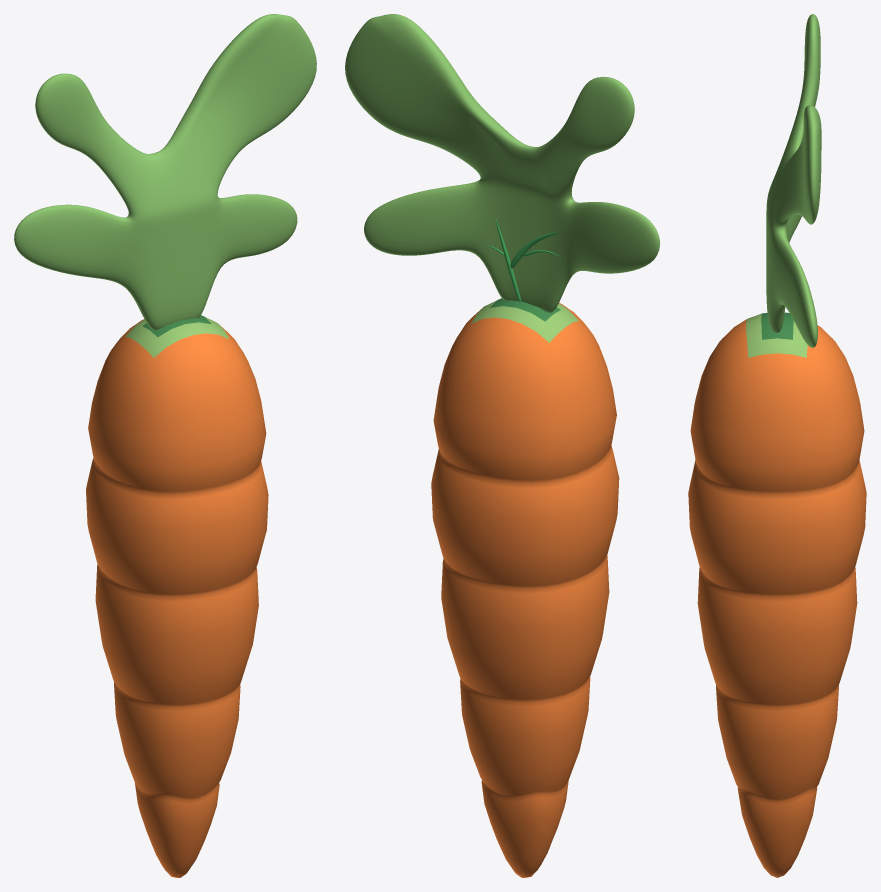
Rendered from wortel step 3.fbx.
3 views of the same model, side by side, from view 1: azimuth 30°, elevation 25°; view 2: azimuth 150°, elevation 25°; view 3: azimuth 270°, elevation 25° (orthographic). The views are drawn at different scales.
Visible parts, largest first — view 1: wortel segar, Plane; view 2: wortel segar, Plane; view 3: wortel segar, Plane.
Boxes of the visible parts, bbox=[...] form: wortel segar: bbox=[86, 315, 268, 877]; Plane: bbox=[14, 14, 316, 329]; wortel segar: bbox=[431, 298, 619, 877]; Plane: bbox=[345, 14, 659, 312]; wortel segar: bbox=[688, 312, 866, 877]; Plane: bbox=[766, 14, 821, 347].
Size of the model in its own units: 270 by 701 by 138.
